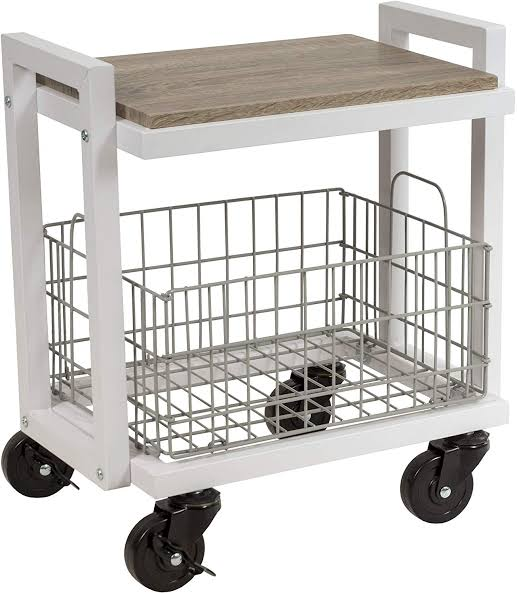Carts: (1, 1, 511, 591)
